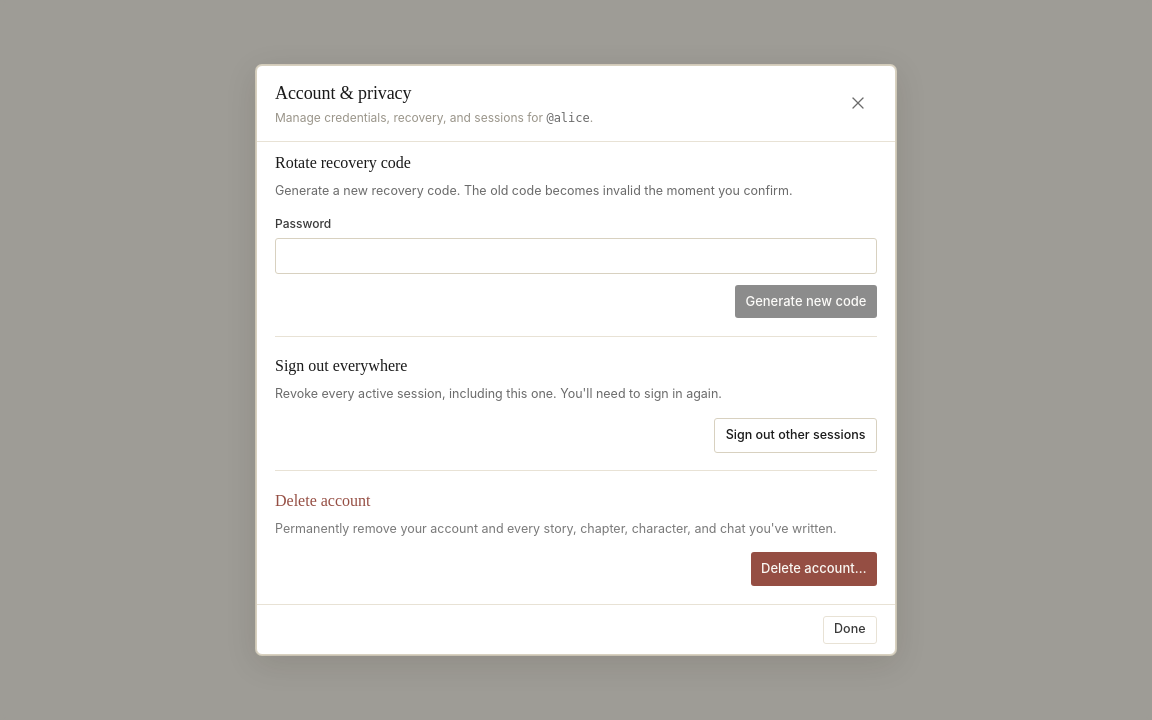
Test: <AccountPrivacyModal> › [X3] delete-account takeover › destructive button is disabled until password is non-empty AND confirm text === DELETE
(page scrolled)
Click the button "Delete account…".
click(814, 569)  # box [750,552,877,586]
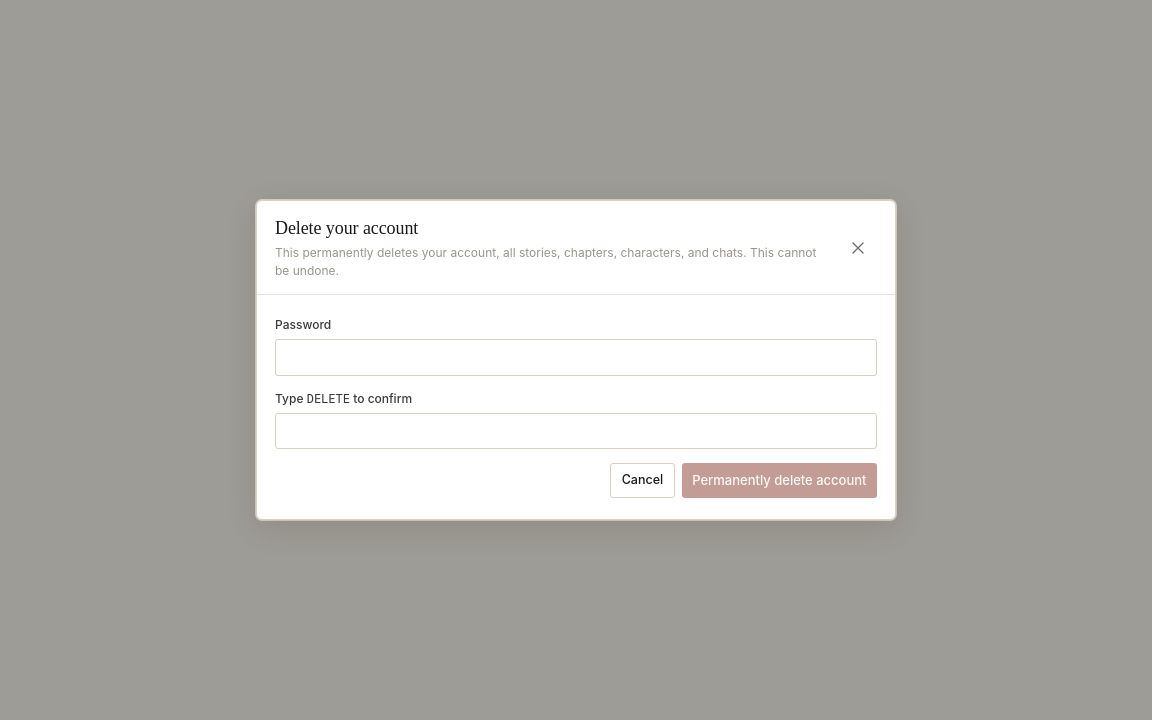
expect the button with test id "delete-account-confirm" is disabled: met, box [682,463,877,498]
Type "pw" into the password field with test id "delete-account-password".
click(576, 358); type("pw")  # box [275,339,877,376]
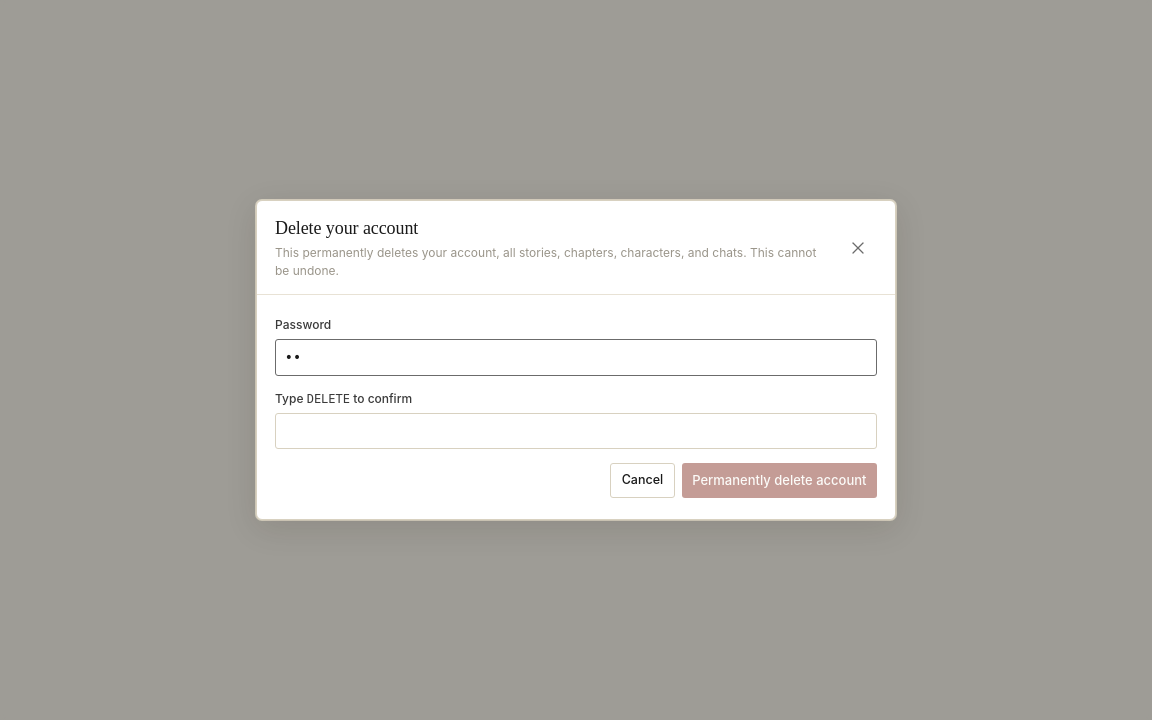
expect the button with test id "delete-account-confirm" is disabled: met, box [682,463,877,498]
Type "delete" into the field with test id "delete-account-confirm-text".
click(576, 431); type("delete")  # box [275,413,877,449]
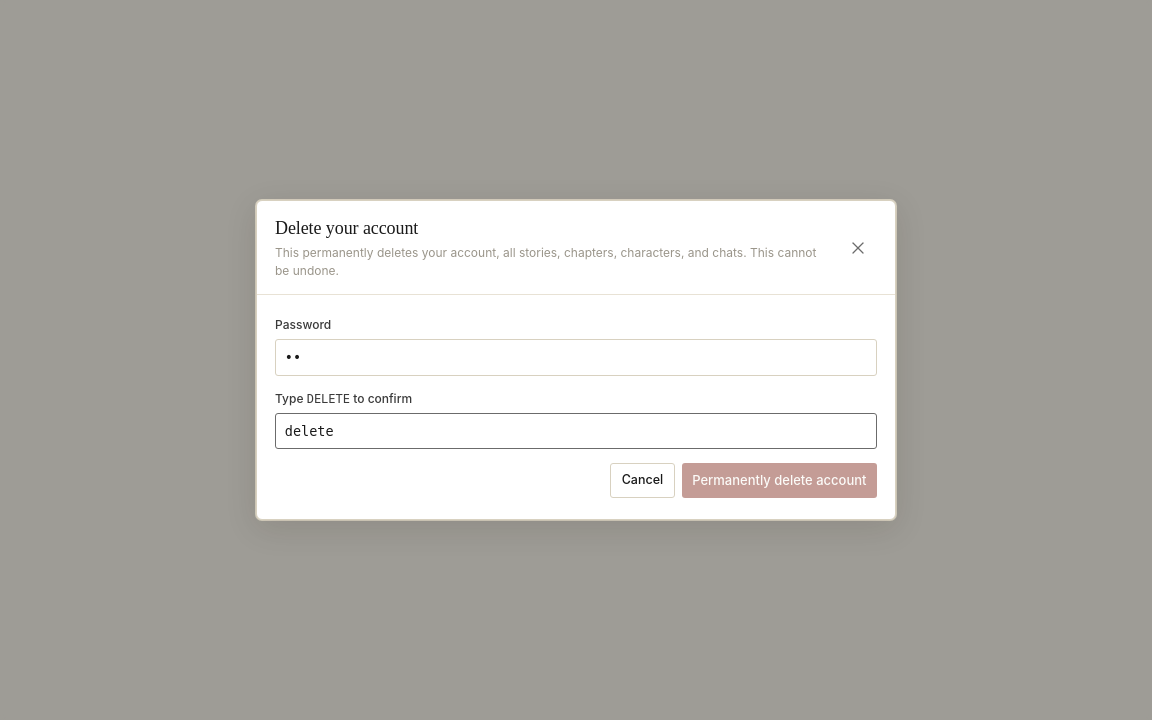
expect the button with test id "delete-account-confirm" is disabled: met, box [682,463,877,498]
Replace the text in the field with test id "delete-account-confirm-text" with "DELETE" at (576, 431), box [275,413,877,449]
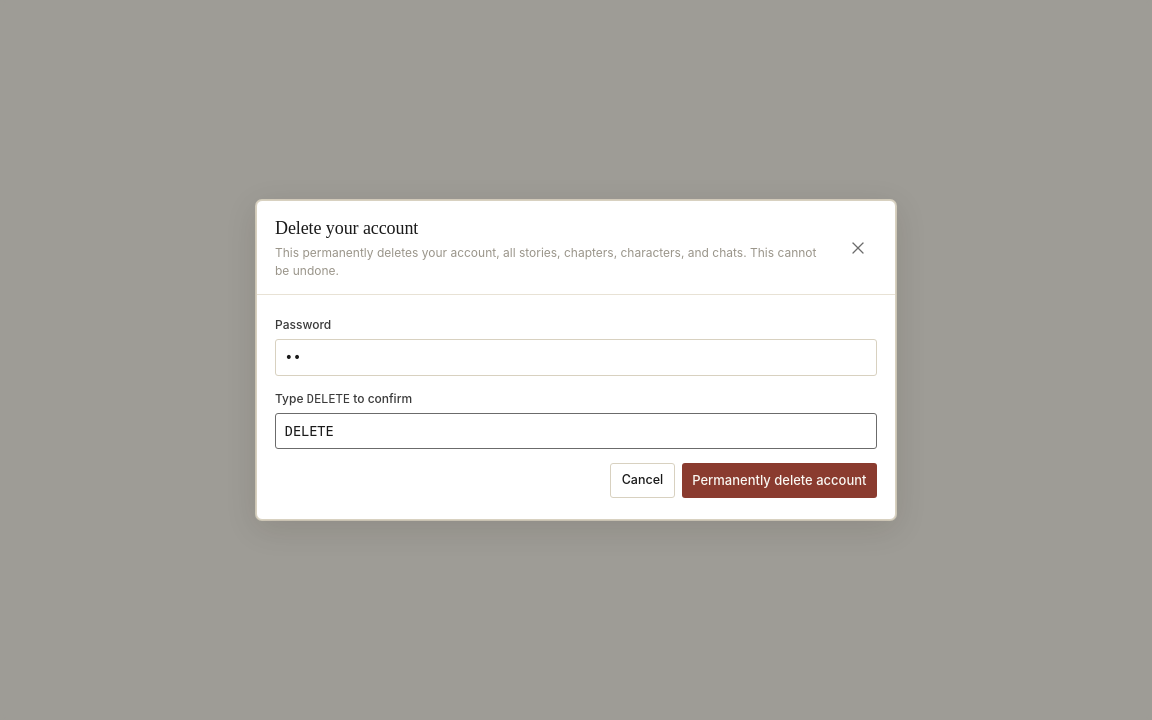
expect the button with test id "delete-account-confirm" is enabled: met, box [682,463,877,498]
